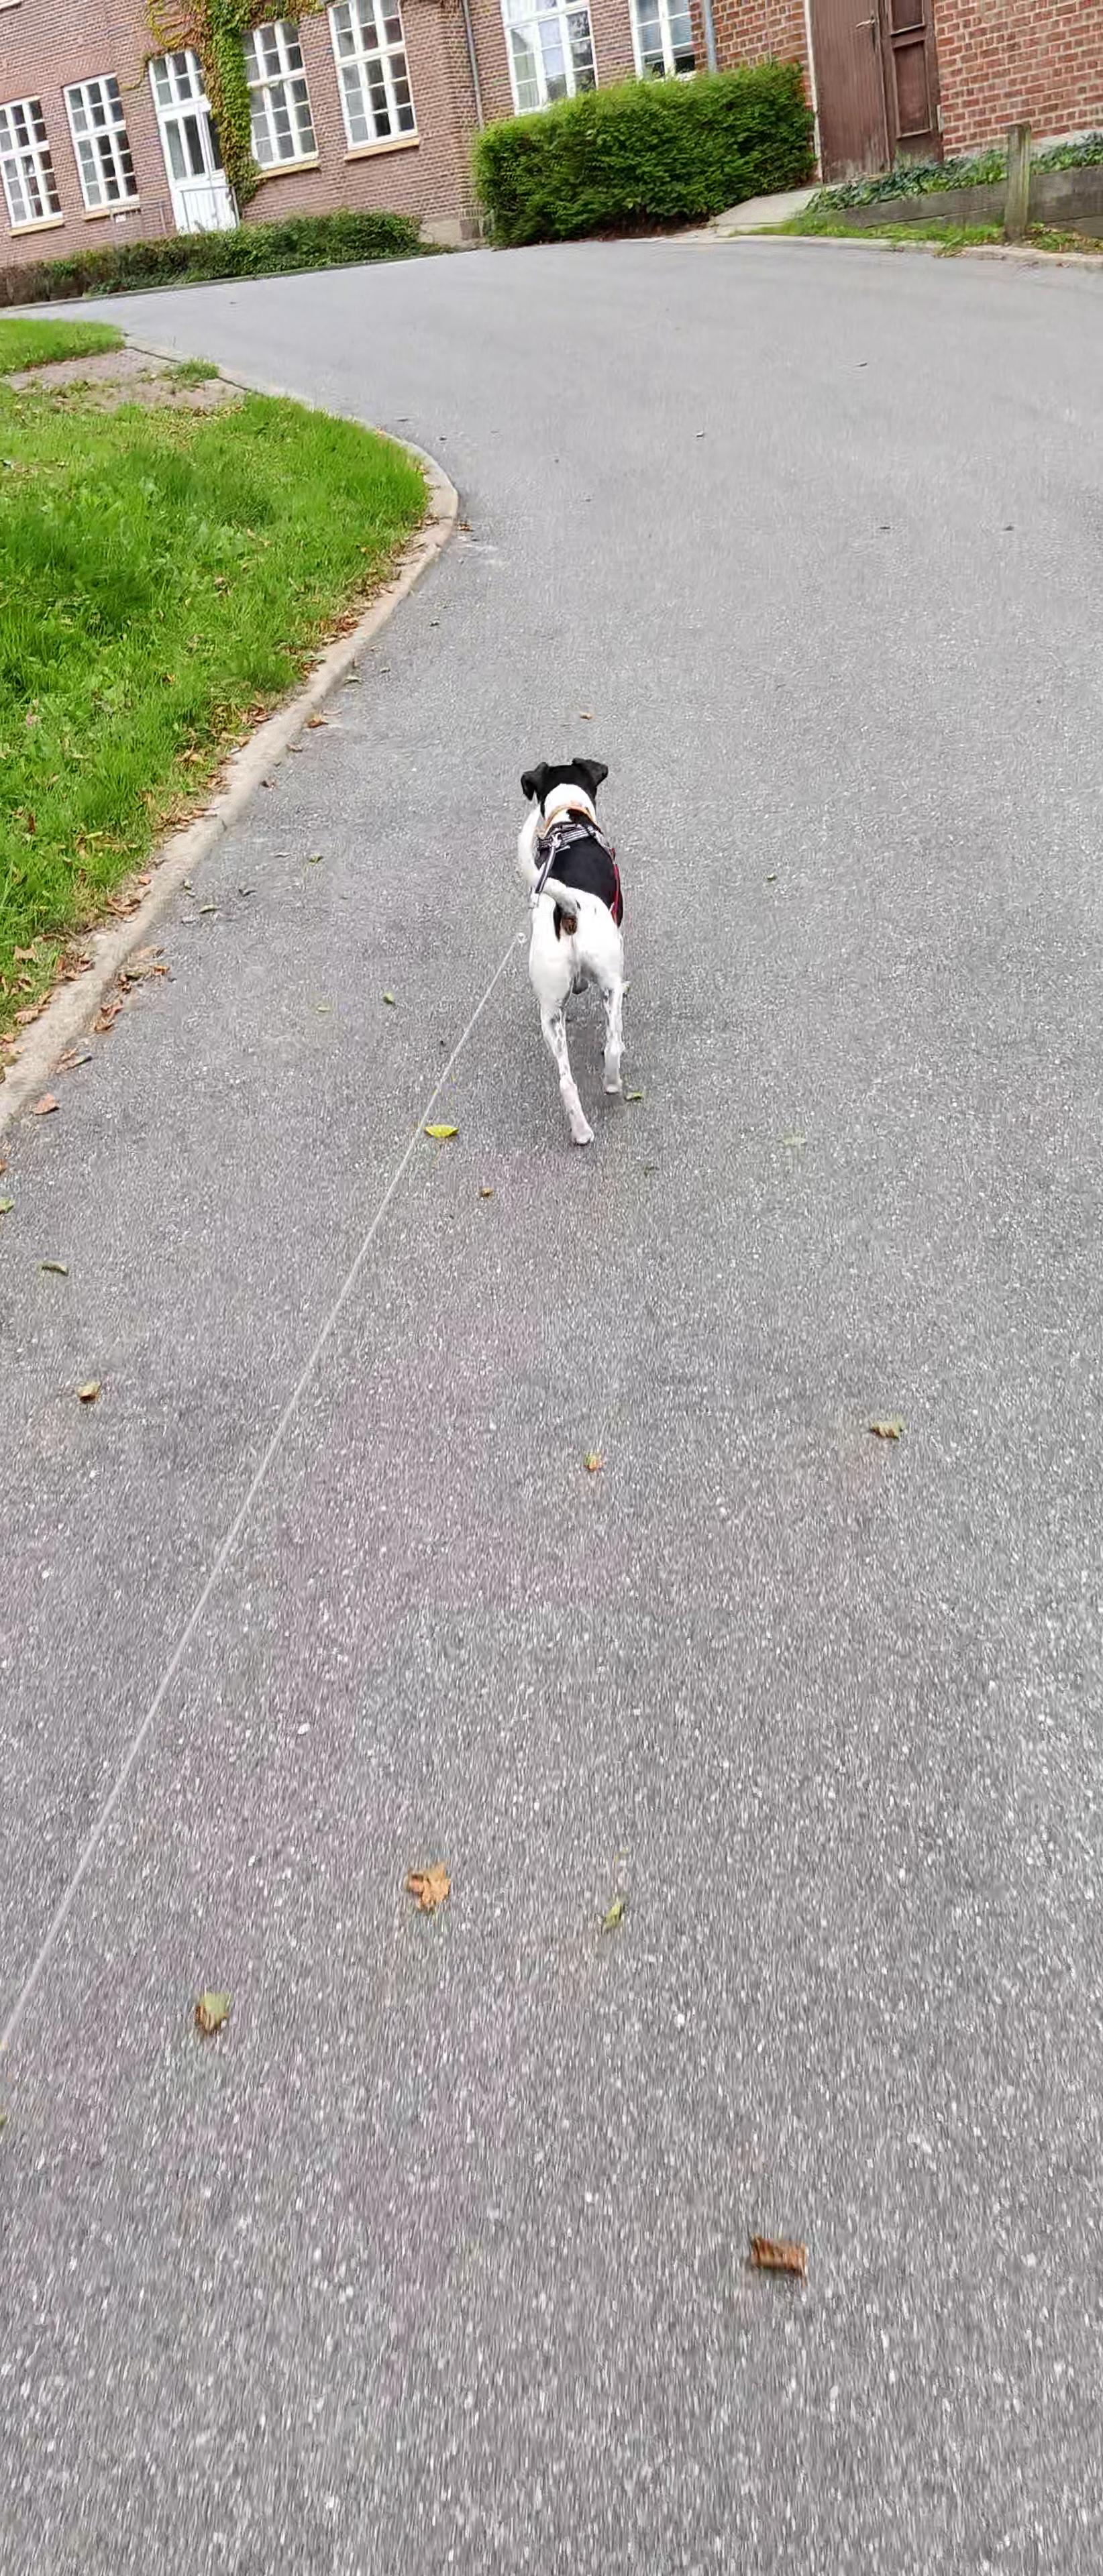Dog: (506, 749, 638, 1161)
